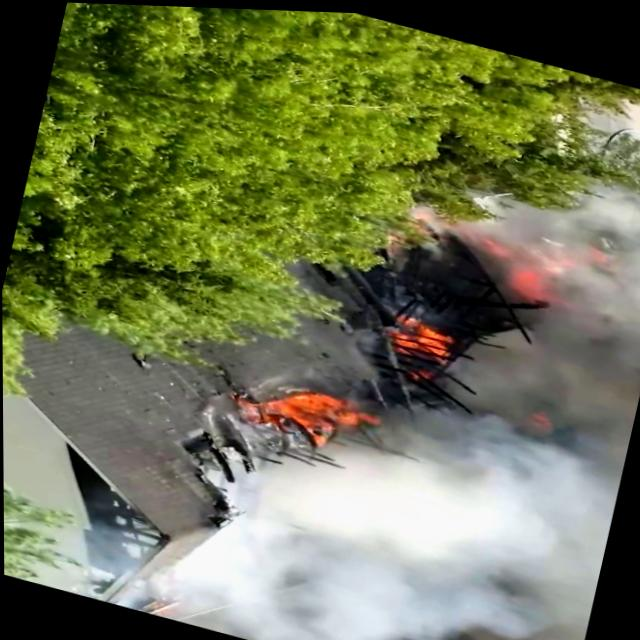smoke: (351, 410, 621, 640)
